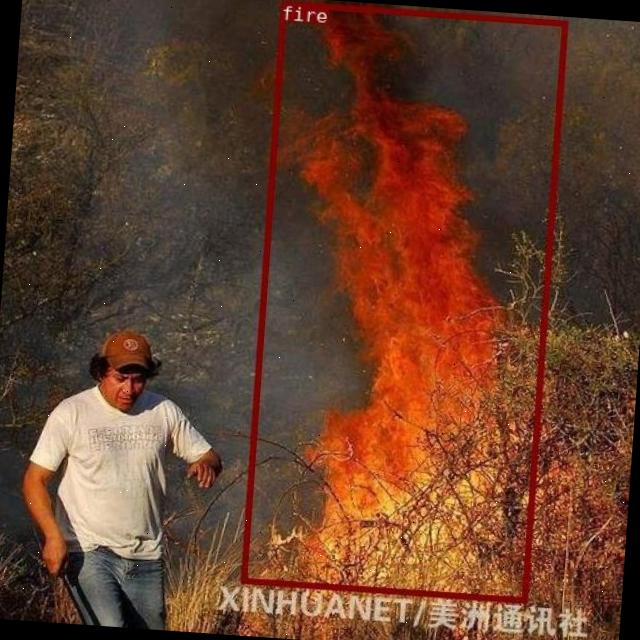fire: (239, 0, 565, 602)
